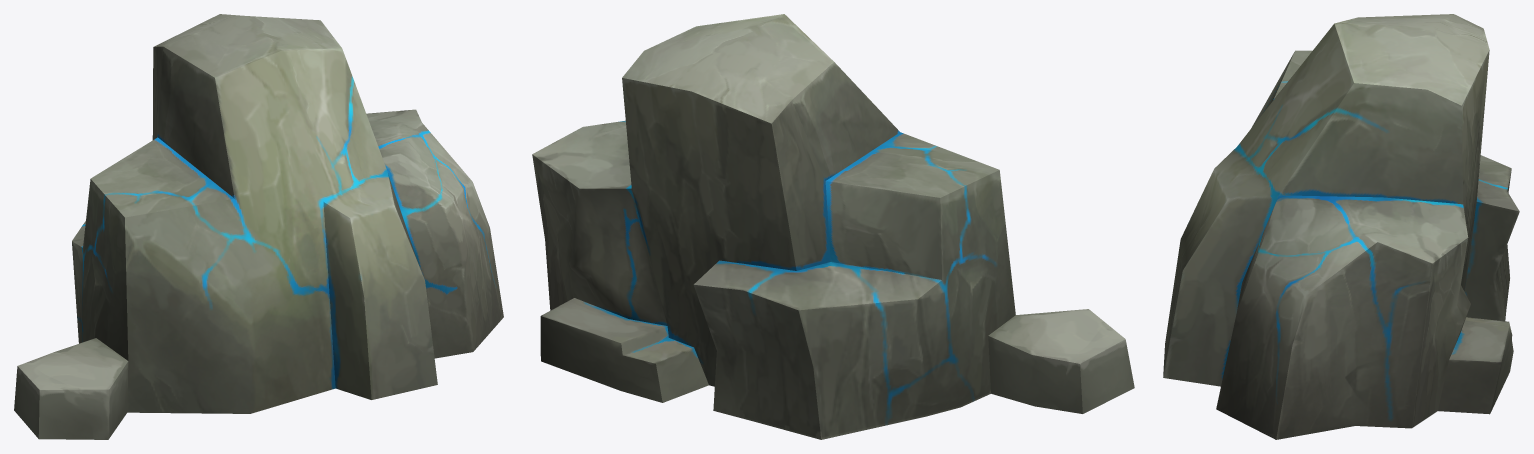
The model's file is xsc_4_04.fbx.
3 renders of one model, left to right at view 1: azimuth 30°, elevation 25°; view 2: azimuth 150°, elevation 25°; view 3: azimuth 270°, elevation 25°, orthographic. The views are drawn at different scales.
Visible parts, largest first — view 1: xsc_4_04; view 2: xsc_4_04; view 3: xsc_4_04.
Part boxes in pixels (x1=…): xsc_4_04: x1=14, y1=14, x2=503, y2=439; xsc_4_04: x1=532, y1=14, x2=1134, y2=439; xsc_4_04: x1=1163, y1=14, x2=1519, y2=439.
Bounding box in the file's own units: 1485 × 881 × 905.
